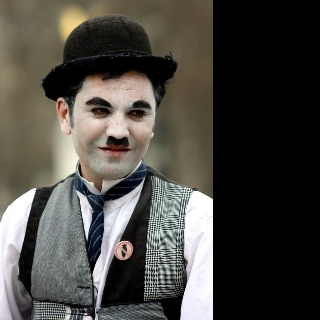without_mask: (69, 71, 156, 178)
